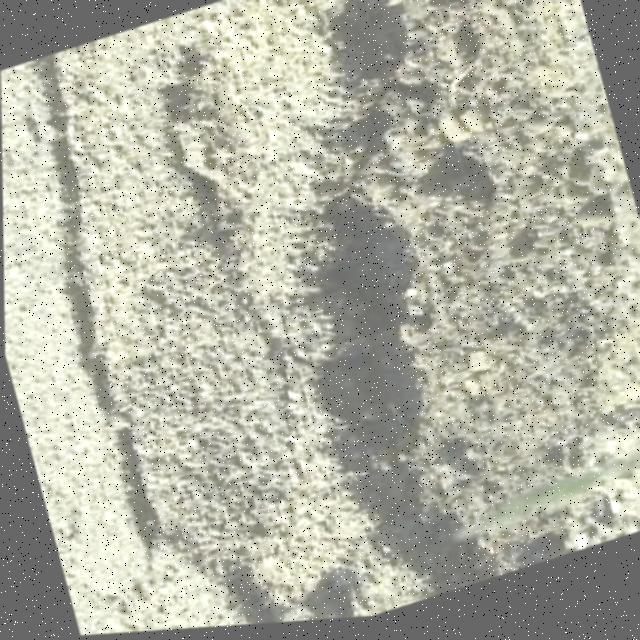pothole: (187, 0, 640, 630)
